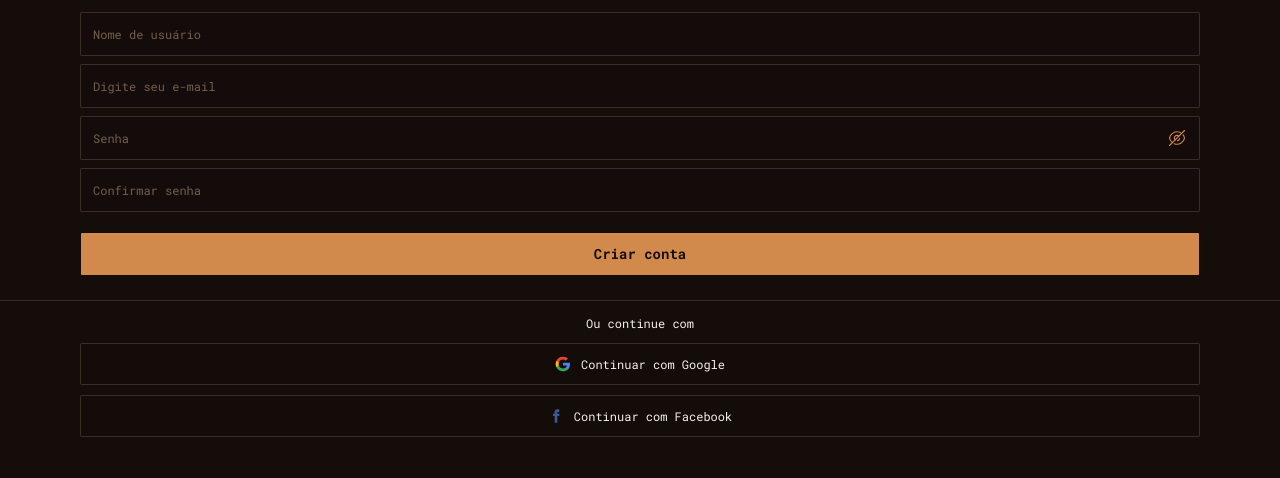
SignupForm › avisa quando as senhas não coincidem e não envia
Type "ana" into the field labelled "Nome de usuário" at (640,34), box [80, 12, 1200, 56]
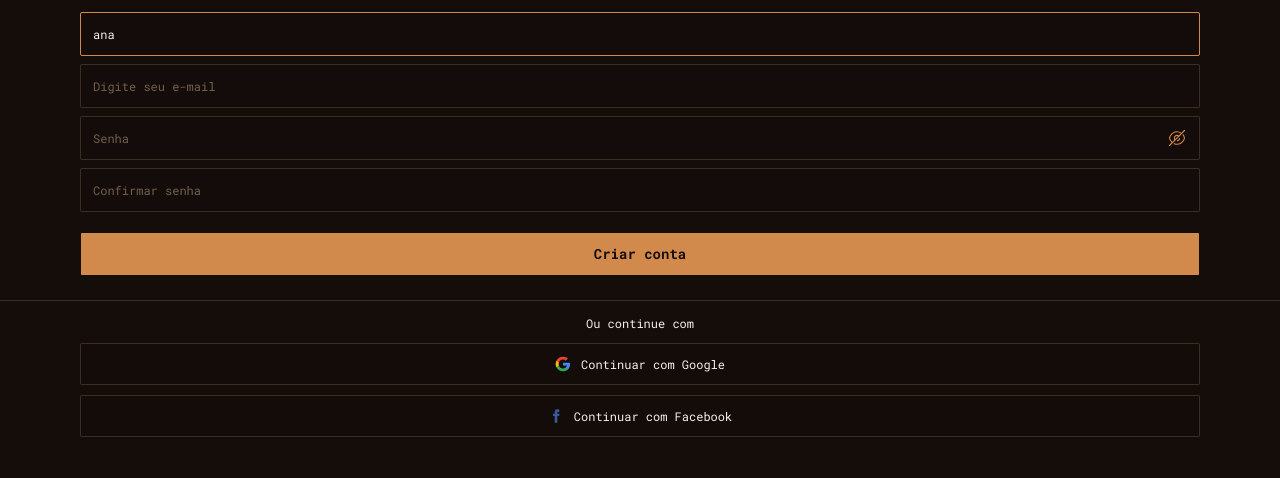
Type "ana@email.com" into the field labelled "Digite seu e-mail" at (640,86), box [80, 64, 1200, 108]
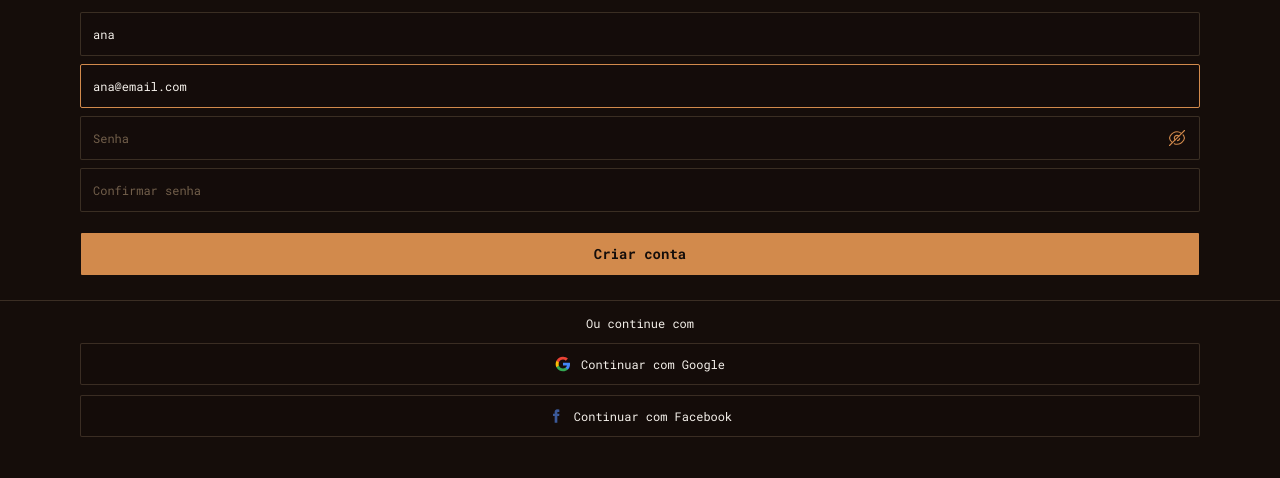
Type "segredo123" into the password field labelled "Senha" at (640,138), box [80, 116, 1200, 160]
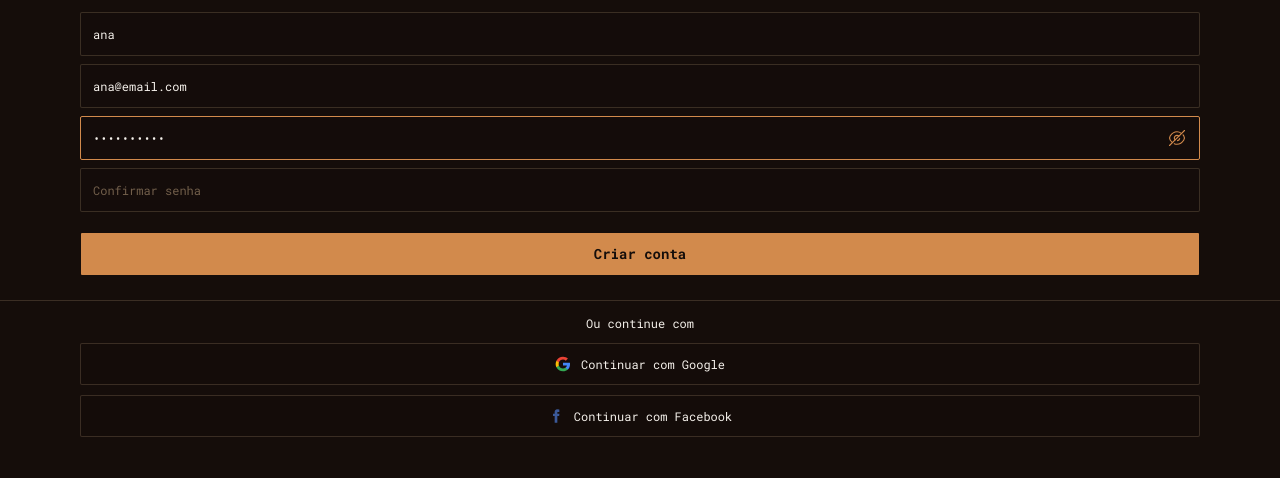
Type "outra-senha1" into the password field labelled "Confirmar senha" at (640,190), box [80, 168, 1200, 212]
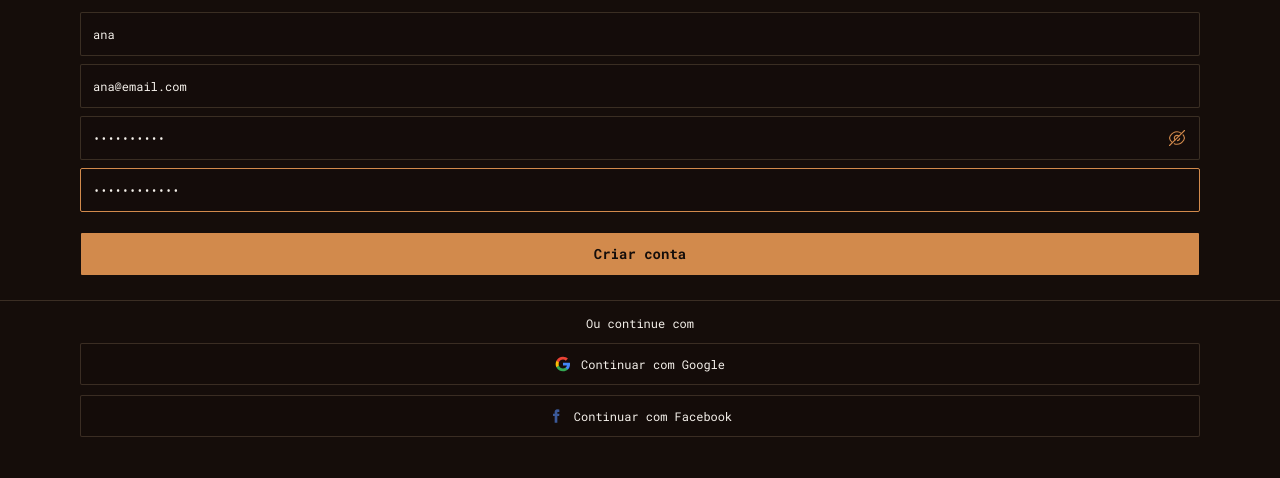
Click the button "Criar conta" at (640,254), box [80, 232, 1200, 276]
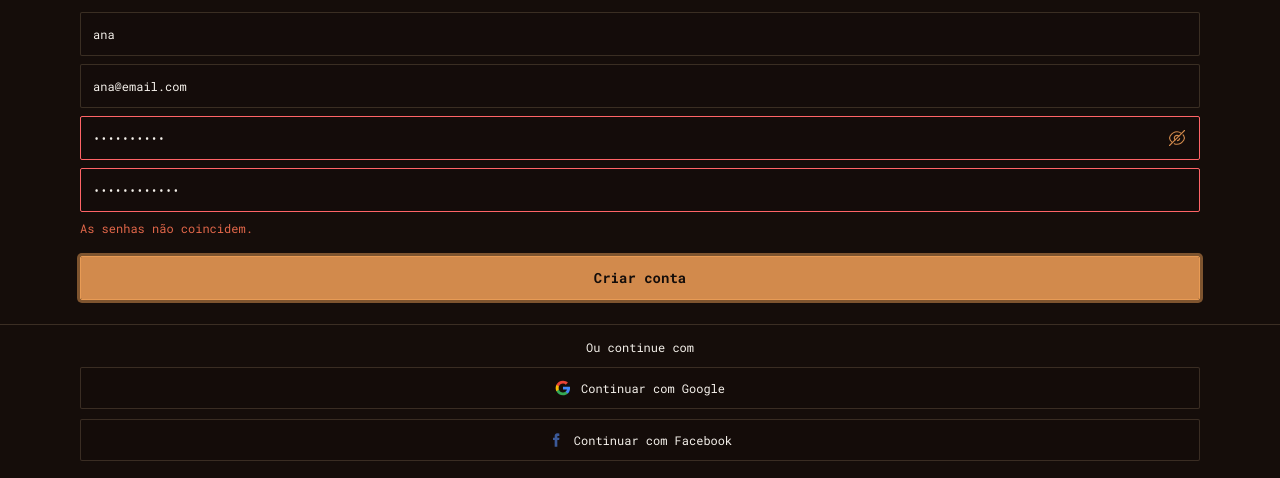
Expected: the message reads "As senhas não coincidem.", [80, 220, 253, 236]
